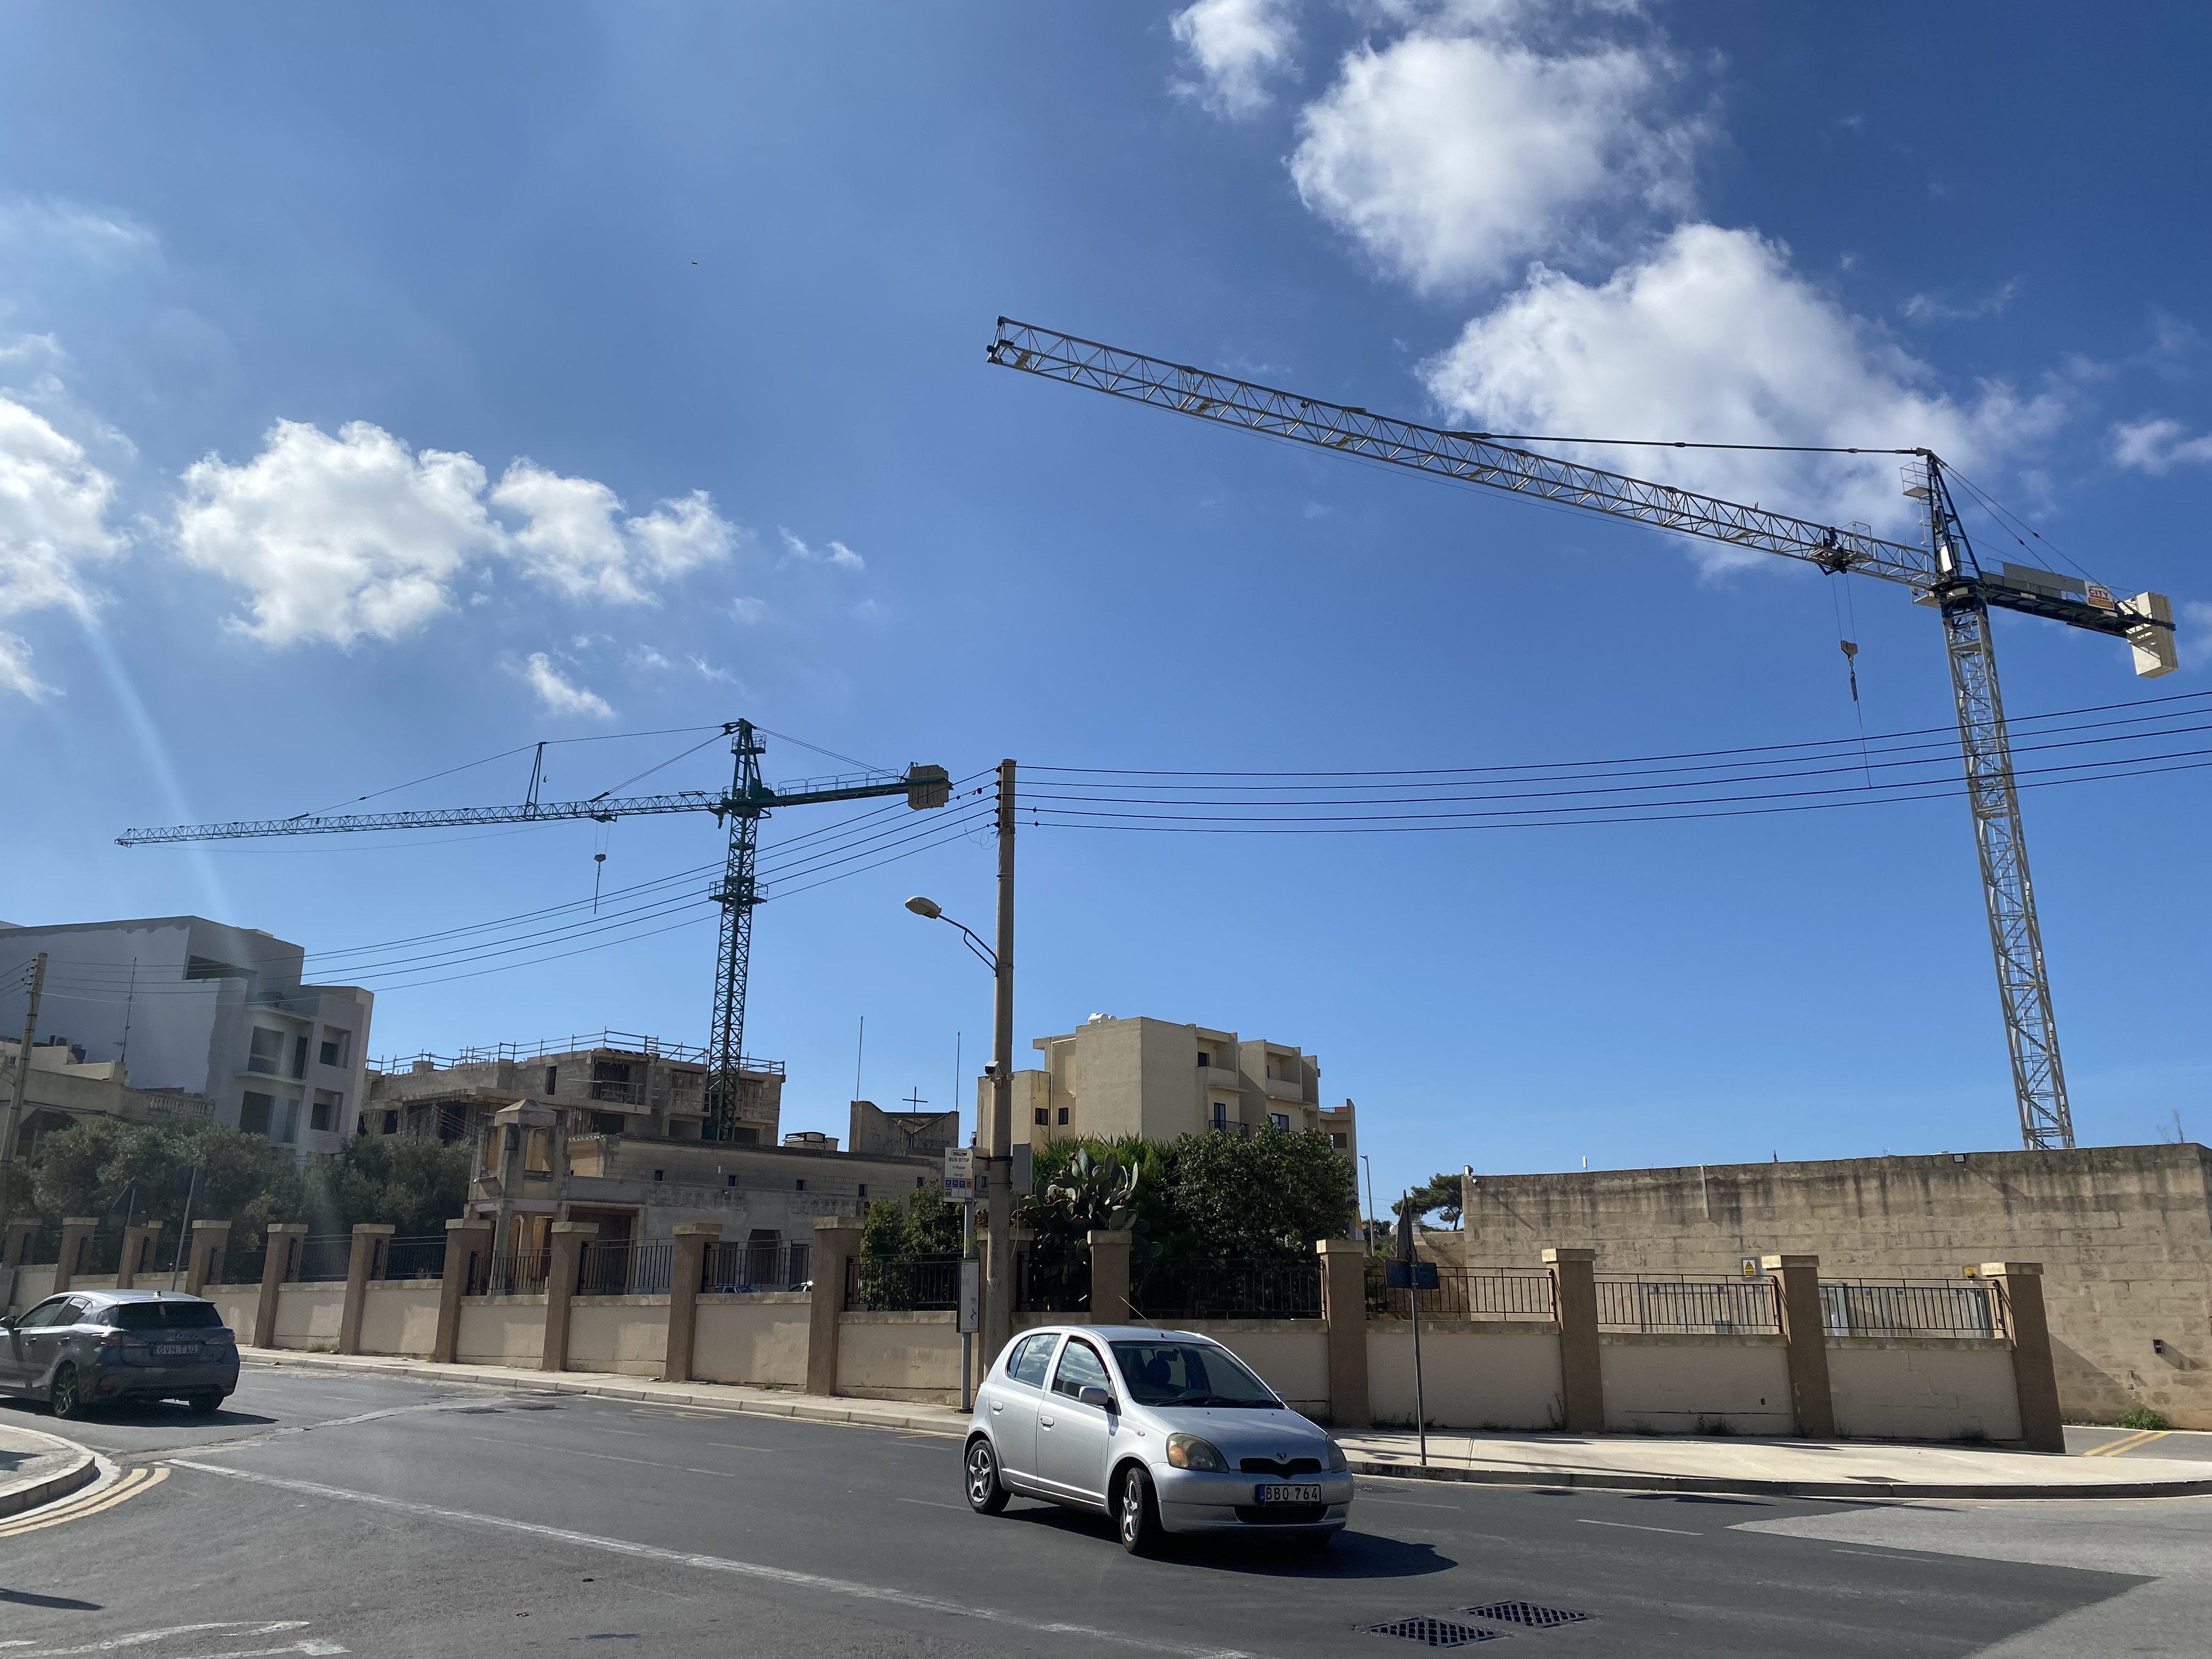crane: (977, 220, 2166, 1089), (66, 626, 1003, 996)
